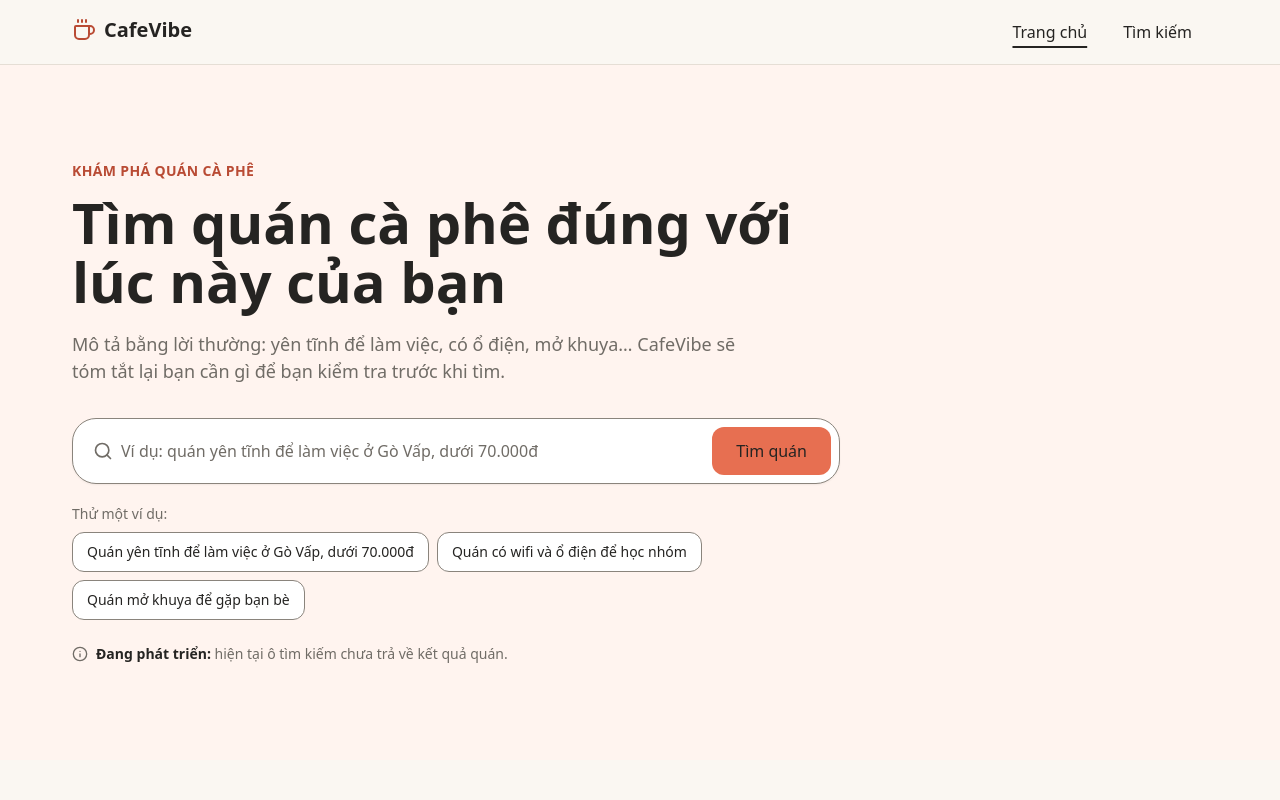
Test case: landing page › submitting navigates to /search and shows the intent panel (keyboard only)
Type "quán yên tĩnh" into the search field at (407, 451), box [121,427,692,475]
Then press Enter
(page scrolled)
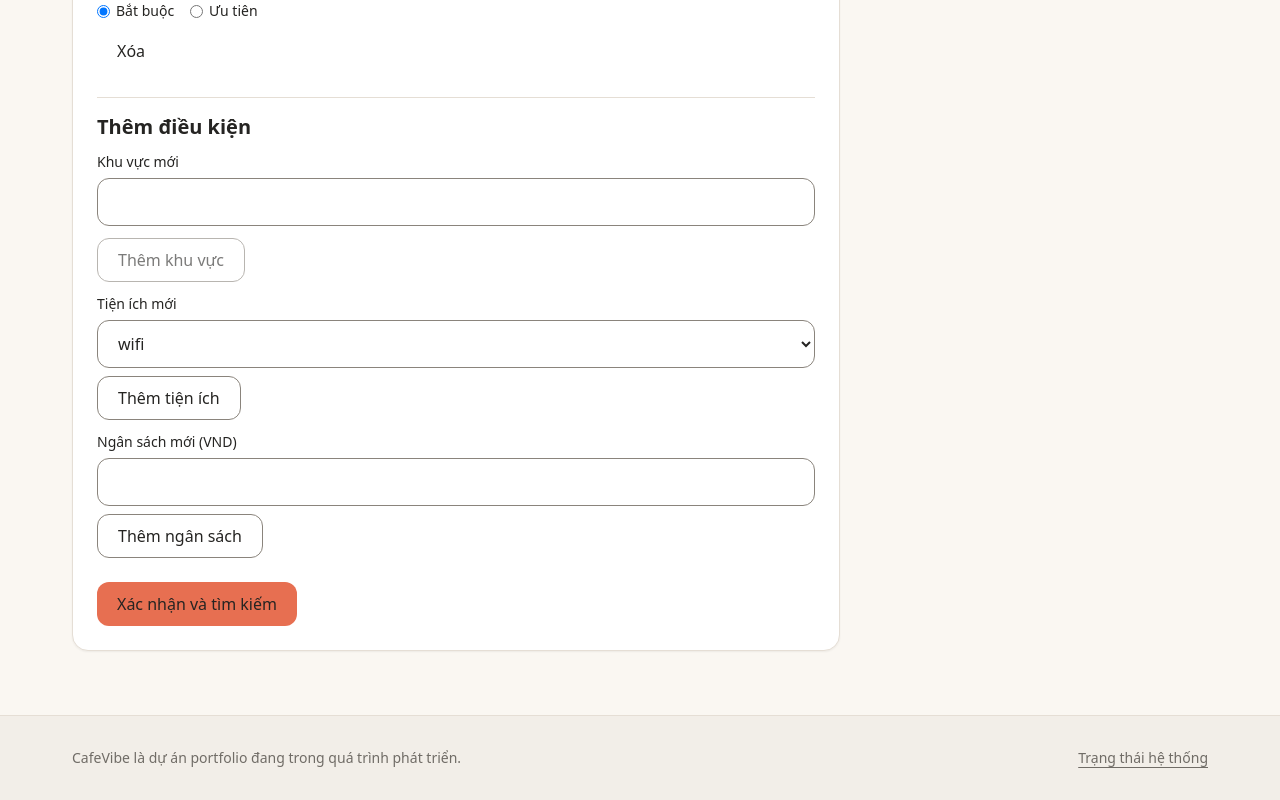
Now the button "Xác nhận và tìm kiếm" is shown, box [97,582,297,626]
